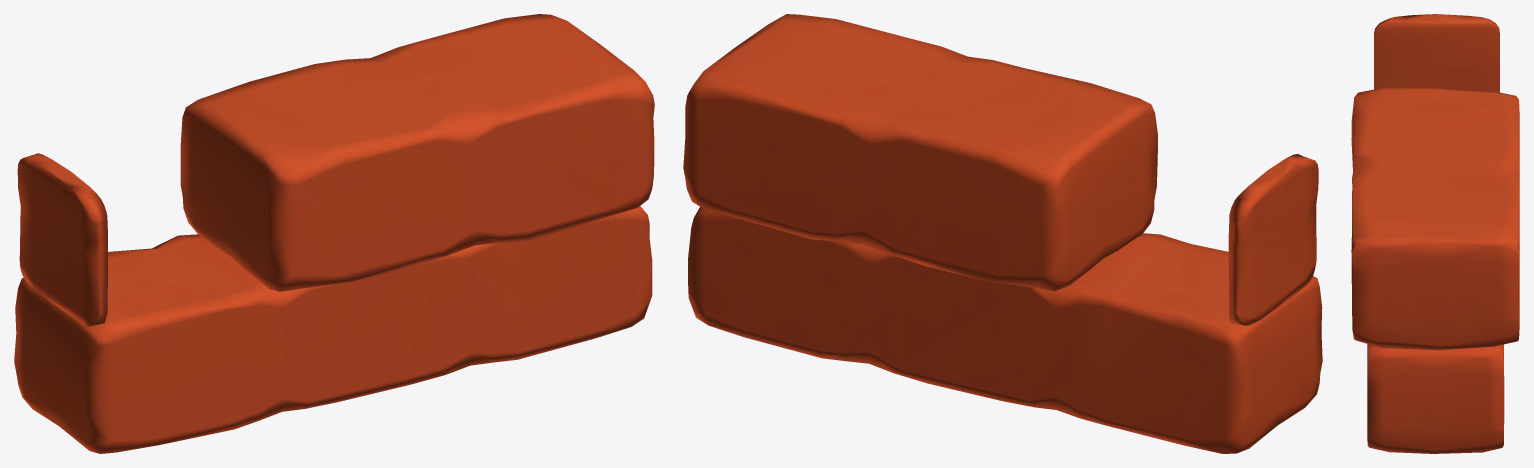
Rendered from res-brick.glb.
3 views of the same model, side by side, from view 1: azimuth 30°, elevation 25°; view 2: azimuth 150°, elevation 25°; view 3: azimuth 270°, elevation 25° (orthographic). The views are drawn at different scales.
Bounding box in the file's own units: 0.9575 × 0.4253 × 0.2974.
Materials: 1 (1 with a texture image).
